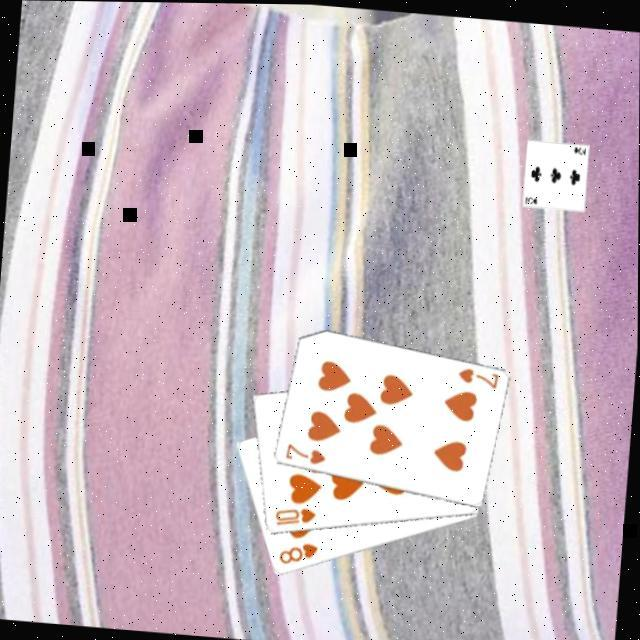10H: (273, 499, 321, 529)
7H: (283, 437, 331, 465), (455, 361, 503, 389)
8H: (277, 535, 323, 567)
